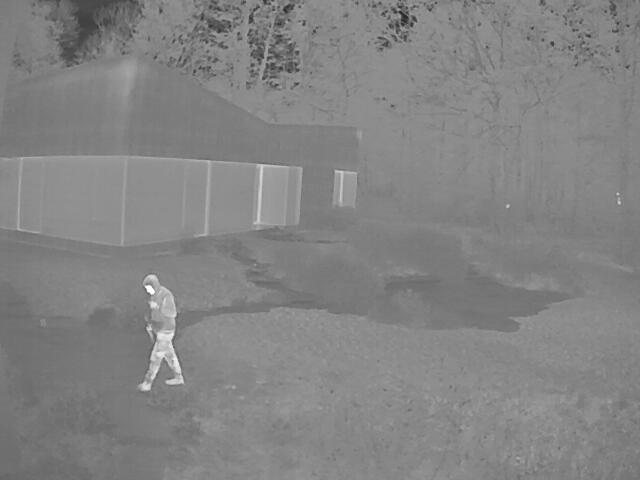person: (136, 273, 183, 391)
